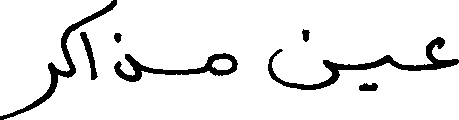ا: (78, 29, 96, 80)
ذ: (112, 32, 142, 82)
ر: (0, 59, 58, 118)
ع: (425, 35, 457, 71)
ك: (58, 19, 76, 78)
م: (206, 50, 236, 76)
ن: (266, 27, 339, 90)
ي: (358, 53, 393, 91)
